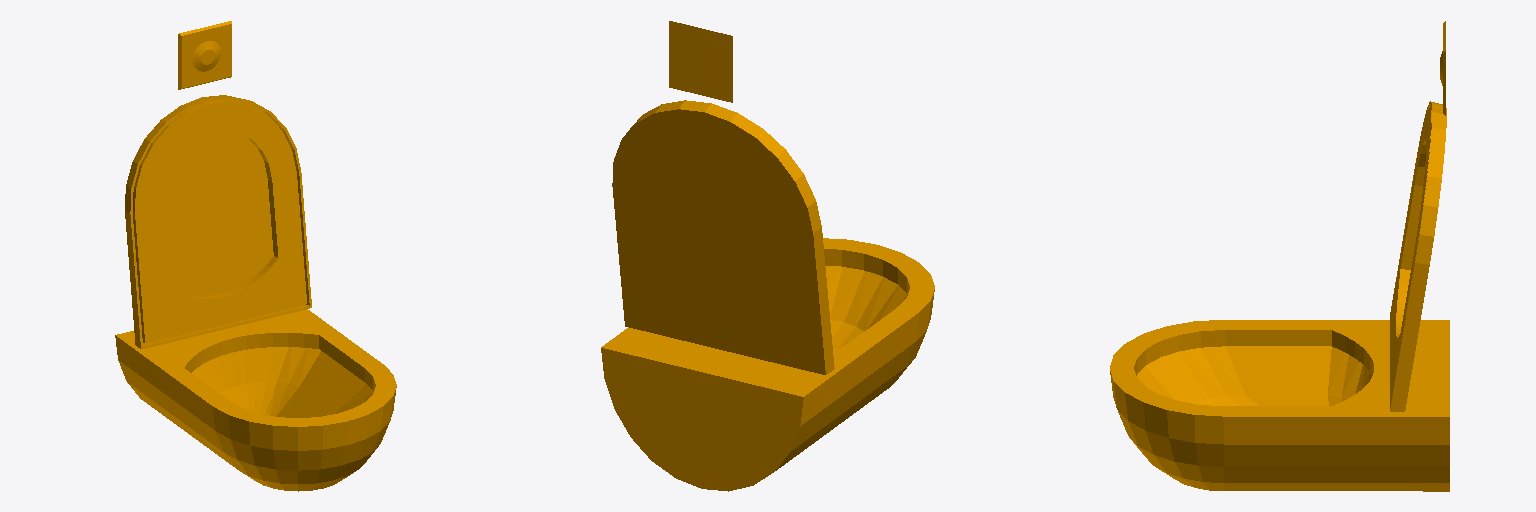
The robot description file, URDF, robot "none":
<robot name="none">
       <link name="none">
           <visual>
               <origin rpy="1.57 0 0" xyz="0 0 0" />
               <geometry>
                   <mesh filename="toilet_hang_round.obj" />
               </geometry>
           </visual>
          <collision>
              <geometry>
                  <box size="0.463415 1.000000 0.688968" />
              </geometry>
          </collision>

          <inertial>
            <mass value="0.0" />
            <inertia ixx="0.0" ixy="0.0" ixz="0.0" iyy="0.0" iyz="0.0" izz="0.0" />
          </inertial>
      </link>
  </robot>

--- Render facts (derived) ---
Views: 3 orthographic renders of the robot side by side, from view 1: azimuth 30°, elevation 25°; view 2: azimuth 150°, elevation 25°; view 3: azimuth 270°, elevation 25°.
Robot: none — 1 links, 0 joints (none); root link none; default pose: all joints at 0.
Links seen in each view (by area): view 1: none; view 2: none; view 3: none.
Link boxes in pixels (x1,y1,x2,y2): none: (115,21,396,491); none: (601,21,934,491); none: (1110,21,1449,491).
Size in the robot's own frame: 0.4634 by 0.689 by 1 metres.
1 mesh visuals loaded from 1 distinct referenced files (1 OBJ).